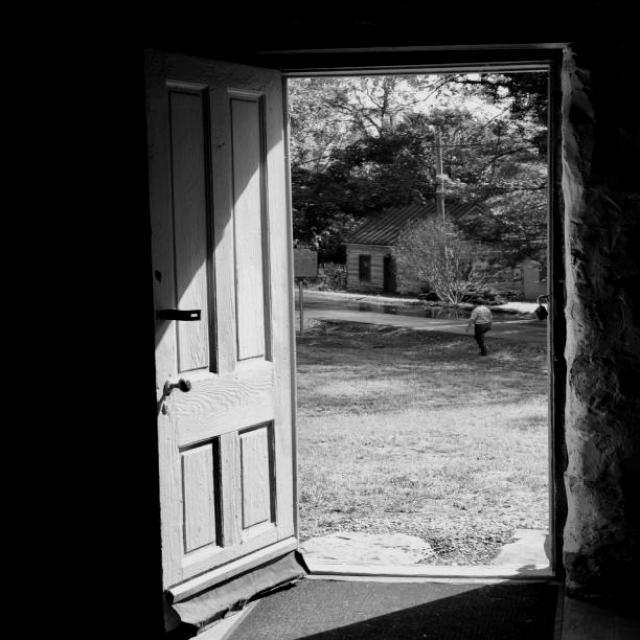door: (147, 51, 300, 604)
